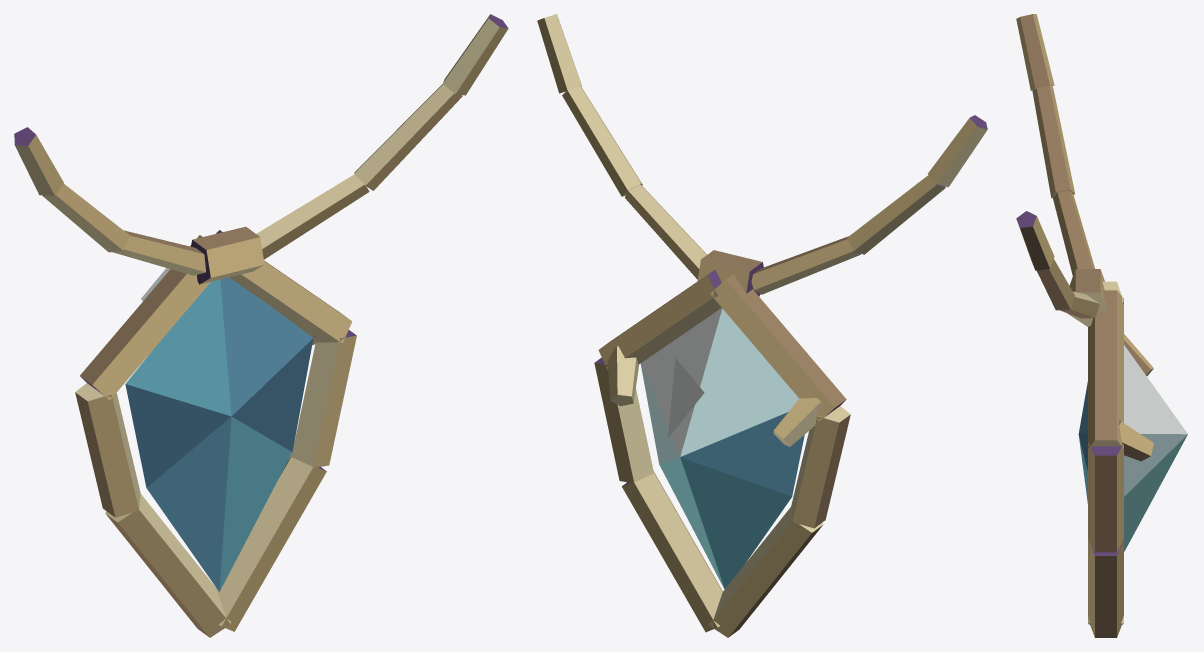
The model's file is crystal_pendant.glb.
3 renders of one model, left to right at view 1: azimuth 30°, elevation 25°; view 2: azimuth 150°, elevation 25°; view 3: azimuth 270°, elevation 25°, orthographic. The views are drawn at different scales.
Parts seen in each view (by area): view 1: body; view 2: body; view 3: body.
Boxes of the visible parts, left/top/right/bottom form: body: left=14, top=14, right=508, bottom=637; body: left=537, top=14, right=987, bottom=637; body: left=1016, top=14, right=1187, bottom=637.
Bounding box in the file's own units: 5.85 × 6.71 × 2.03.
